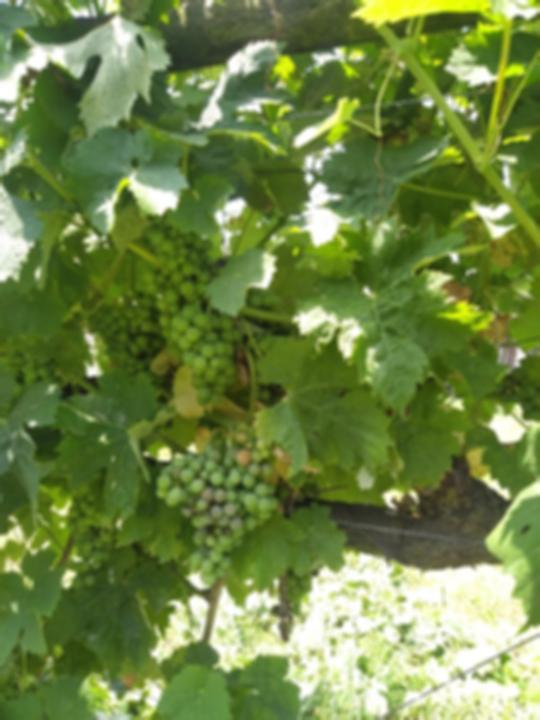grape: (152, 424, 290, 589), (142, 223, 247, 406)
